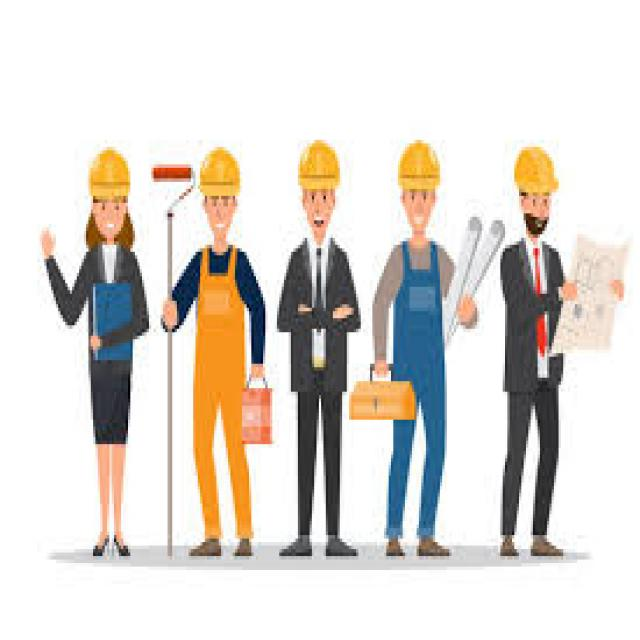Safety-Helmet: (391, 133, 444, 199), (507, 140, 561, 203), (81, 140, 132, 206), (294, 133, 344, 199), (193, 143, 244, 203)
